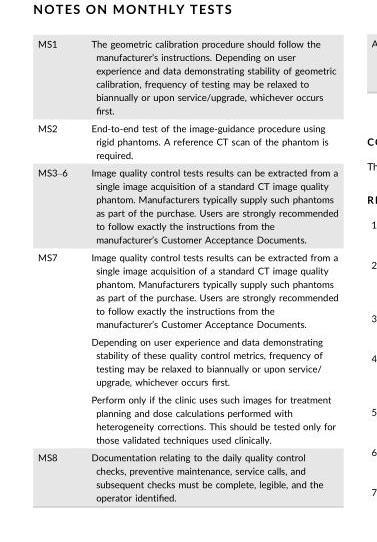table: (37, 37, 337, 502)
table column: (78, 37, 337, 502), (37, 37, 78, 502)
table row: (37, 247, 337, 332), (37, 163, 337, 247), (37, 37, 337, 118), (37, 332, 337, 390), (37, 390, 337, 447), (37, 447, 337, 502), (37, 118, 337, 163)
table spanning cell: (37, 247, 78, 447)
